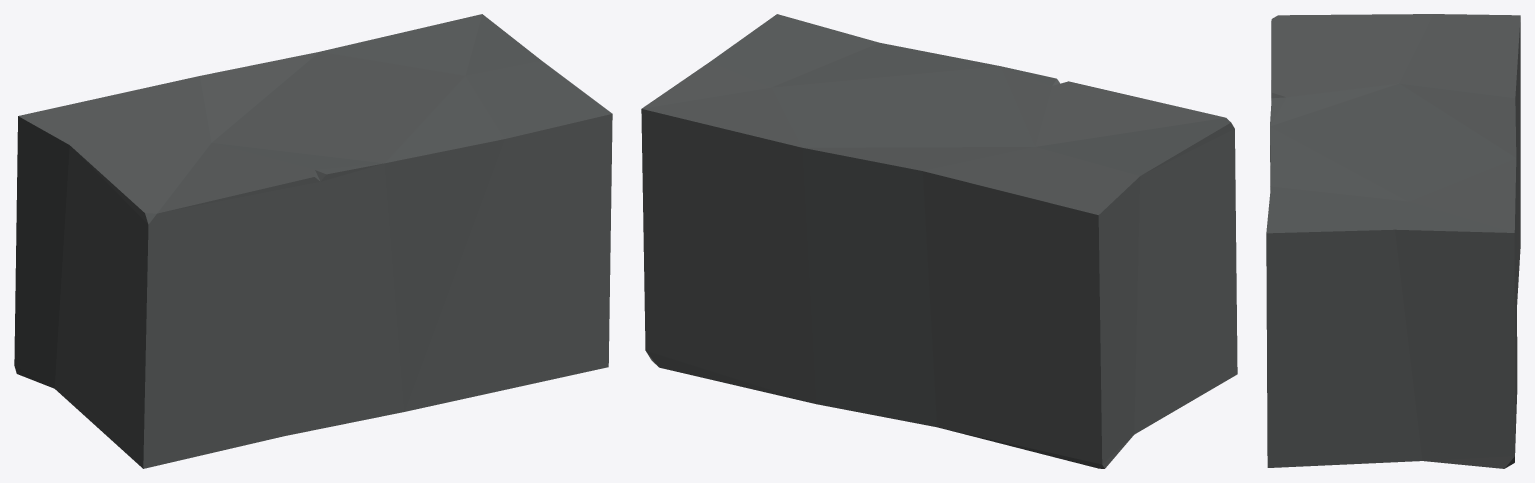
Rendered from stone_block.glb.
The picture shows the model from 3 angles, left to right: view 1: azimuth 30°, elevation 25°; view 2: azimuth 150°, elevation 25°; view 3: azimuth 270°, elevation 25°; orthographic projection. The views are drawn at different scales.
Visible parts, largest first — view 1: StoneBlock2; view 2: StoneBlock2; view 3: StoneBlock2.
Boxes of the visible parts, box(x1,y1,x2,y2) form: StoneBlock2: box(14, 14, 612, 468); StoneBlock2: box(641, 14, 1237, 468); StoneBlock2: box(1266, 14, 1520, 468).
Bounding box in the file's own units: 0.3036 × 0.1654 × 0.153.
Materials: 1 (1 with a texture image).
